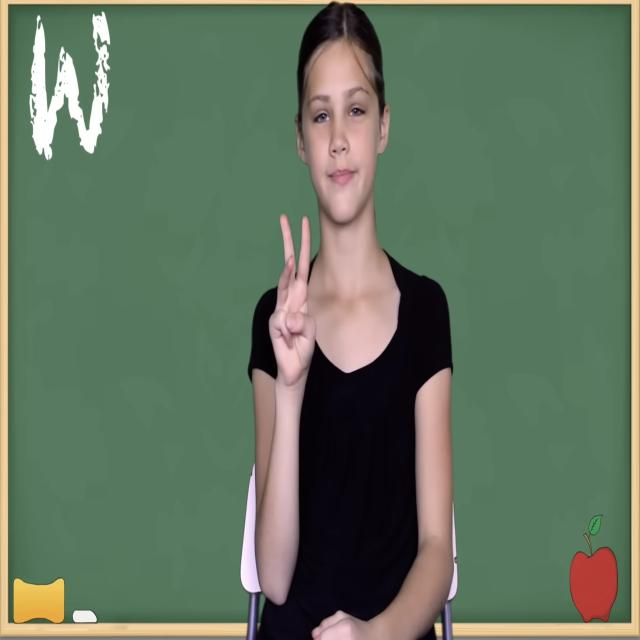W: (256, 206, 332, 416)
